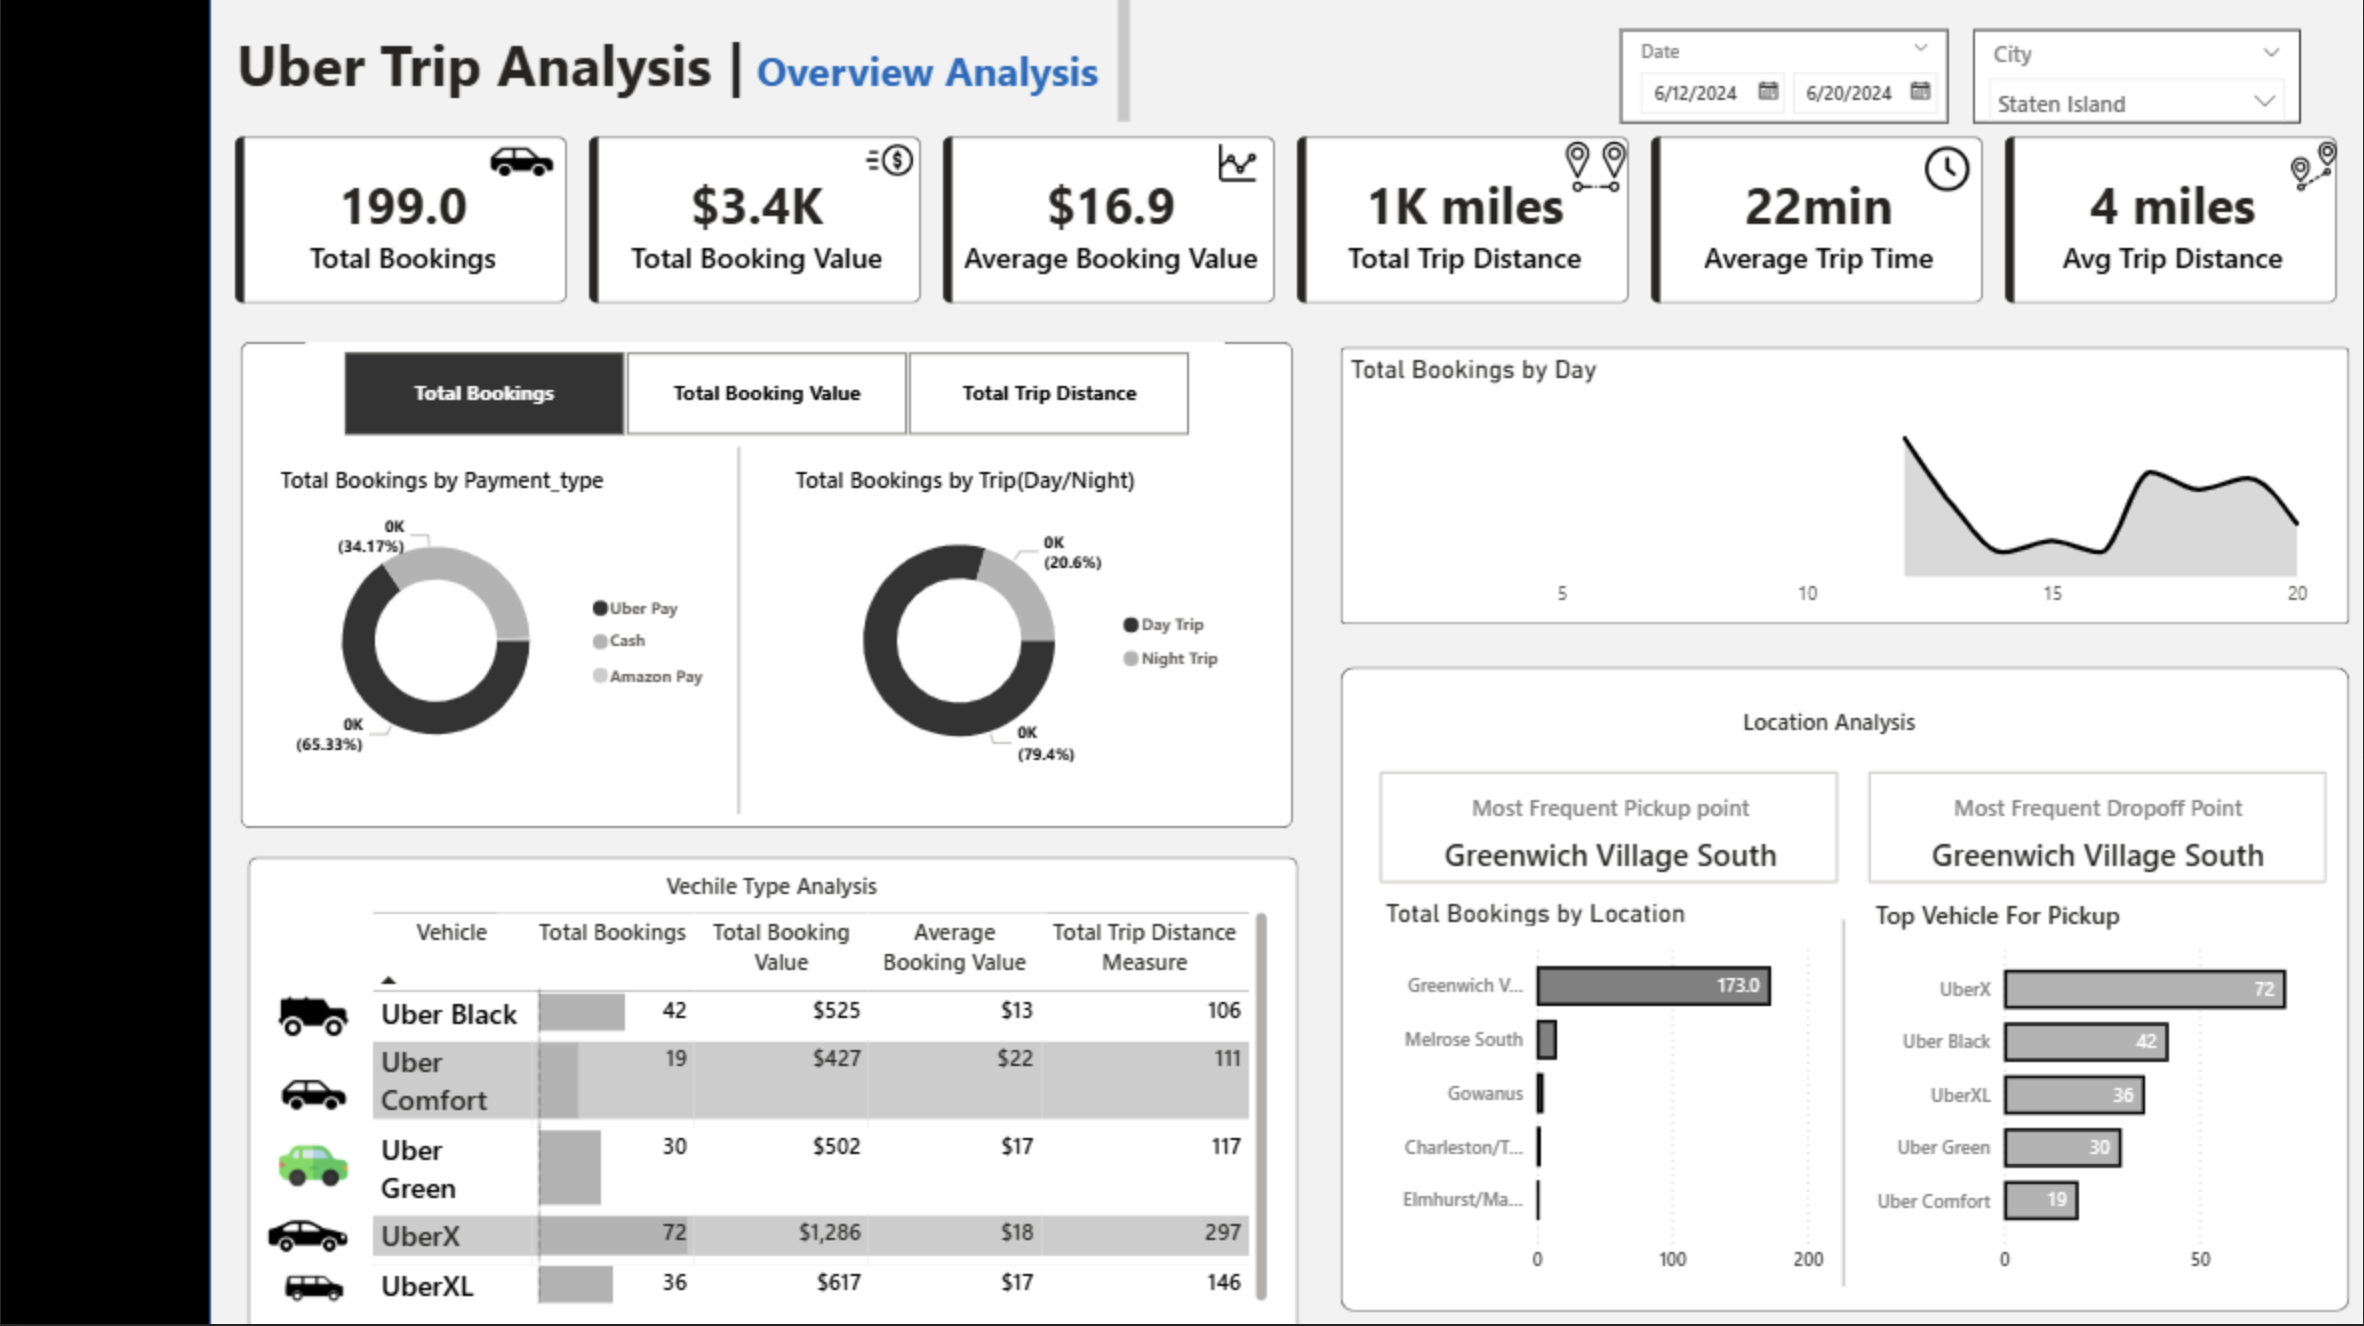

What the dashboard file says about the page in this screenshot:
{"tool":"powerbi","page":{"name":"Overview Analysis","canvas":[1600,900],"ordinal":0},"visuals":[{"type":"shape","box":[10.3,0,142,899],"z":0},{"type":"textbox","box":[152.9,0,616,93.2],"z":1000},{"type":"cardVisual","fields":{"Data":["Trip Details.Total Bookings","Trip Details.Total Booking Amount","Trip Details.Average Booking Amt","Trip Details.Total Trip Distance","Trip Details.Average Trip Time","Trip Details.Avg Trip Distance"]},"box":[164,92.2,1414.2,121.3],"z":2000},{"type":"image","box":[561.9,92.2,85.4,41],"z":3000},{"type":"image","box":[1023.1,92.2,104.2,49.5],"z":4000},{"type":"image","box":[780.5,95.6,112.7,37.6],"z":5000},{"type":"image","box":[1509.8,95.6,90.5,42.7],"z":6000},{"type":"image","box":[321.1,87.1,75.1,52.9],"z":7000},{"type":"shape","box":[171.2,233.9,701.6,324.1],"z":8000},{"type":"image","box":[1269,99.1,82,39.3],"z":9000},{"type":"slicer","fields":{"Values":["Dynamic Measure.Dynamic Measure"]},"box":[215.2,234,613.2,68.3],"z":10000},{"type":"donutChart","fields":{"Y":["Trip Details.Total Bookings"],"Category":["Trip Details.Payment_type"]},"box":[193,314.3,300.6,215.2],"z":11000},{"type":"donutChart","fields":{"Y":["Trip Details.Total Bookings"],"Category":["Trip Details.Trip Type (Day/Night)"]},"box":[536.3,314.3,300.6,215.2],"z":12000},{"type":"shape","box":[177.3,576.3,700.1,322.5],"z":13000},{"type":"pivotTable","fields":{"Values":["Trip Details.Total Bookings","Trip Details.Total Booking Value","Trip Details.Average Booking Value","Trip Details.Total Trip Distance Measure"],"Rows":["Trip Details.Vehicle"]},"box":[255.3,608.4,606.8,270.6],"z":14000},{"type":"image","box":[177.3,794.8,79.5,68.8],"z":15000},{"type":"image","box":[186.7,707.7,67.3,53.5],"z":16000},{"type":"image","box":[178.3,755.1,84.1,55],"z":17000},{"type":"image","box":[186.7,837.6,67.3,52],"z":18000},{"type":"image","box":[186.7,655.7,67.3,56.6],"z":19000},{"type":"card","fields":{"Values":["Trip Details.Title for Grid"]},"box":[343.9,583.9,365.3,30.6],"z":20000},{"type":"shape","box":[904.9,236.9,672.6,185],"z":21000},{"type":"areaChart","fields":{"Category":["CALENDER TABLE.Date.Variation.Date Hierarchy.Day"],"Y":["Trip Details.Total Bookings"]},"box":[906.4,241.5,651.2,177.3],"z":22000},{"type":"shape","box":[904.9,449.4,672.6,429.5],"z":23000},{"type":"cardVisual","fields":{"Data":["Trip Details.Most Frequent Pickup point","Trip Details.Most Frequent Dropoff Point"]},"box":[926.3,515.1,640.5,84.1],"z":24000},{"type":"barChart","fields":{"Category":["Location Table.Location"],"Y":["Trip Details.Total Bookings"]},"box":[929.4,603.8,311.8,259.9],"z":25000},{"type":"barChart","title":"Top Vehicle For Pickup","fields":{"Category":["Trip Details.Vehicle"],"Y":["CountNonNull(Trip Details.PULocationID)"]},"box":[1256.5,603.8,311.8,259.9],"z":26000},{"type":"shape","box":[444.8,302.7,117.7,244.6],"z":27000},{"type":"shape","box":[1181.6,619.1,117.7,244.6],"z":28000},{"type":"card","fields":{"Values":["Trip Details.Title for Location"]},"box":[1048.6,461.6,365.3,53.5],"z":29000},{"type":"slicer","fields":{"Values":["CALENDER TABLE.Date"]},"box":[1091.4,24.5,218.6,62.7],"z":30000},{"type":"slicer","fields":{"Values":["Location Table.City"]},"box":[1326.8,24.5,218.6,62.7],"z":31000}]}

Visuals, with their boxes in screenshot pixels (x1, y1, x2, y2), scaled from the page's 1600x900 canvas onto the 2364x1326 screenshot:
shape: rect(15, 0, 225, 1325)
textbox: rect(226, 0, 1136, 137)
cardVisual - Trip Details.Total Bookings x Trip Details.Total Booking Amount: rect(242, 136, 2332, 315)
image: rect(830, 136, 956, 196)
image: rect(1512, 136, 1666, 209)
image: rect(1153, 141, 1320, 196)
image: rect(2231, 141, 2363, 204)
image: rect(474, 128, 585, 206)
shape: rect(253, 345, 1290, 822)
image: rect(1875, 146, 1996, 204)
slicer - Dynamic Measure.Dynamic Measure: rect(318, 345, 1224, 445)
donutChart - Trip Details.Total Bookings x Trip Details.Payment_type: rect(285, 463, 729, 780)
donutChart - Trip Details.Total Bookings x Trip Details.Trip Type (Day/Night): rect(792, 463, 1237, 780)
shape: rect(262, 849, 1296, 1324)
pivotTable - Trip Details.Total Bookings x Trip Details.Total Booking Value: rect(377, 896, 1274, 1295)
image: rect(262, 1171, 379, 1272)
image: rect(276, 1043, 375, 1122)
image: rect(263, 1113, 388, 1194)
image: rect(276, 1234, 375, 1311)
image: rect(276, 966, 375, 1049)
card - Trip Details.Title for Grid: rect(508, 860, 1048, 905)
shape: rect(1337, 349, 2331, 622)
areaChart - CALENDER TABLE.Date.Variation.Date Hierarchy.Day x Trip Details.Total Bookings: rect(1339, 356, 2301, 617)
shape: rect(1337, 662, 2331, 1295)
cardVisual - Trip Details.Most Frequent Pickup point x Trip Details.Most Frequent Dropoff Point: rect(1369, 759, 2315, 883)
barChart - Location Table.Location x Trip Details.Total Bookings: rect(1373, 890, 1834, 1273)
"Top Vehicle For Pickup" barChart: rect(1856, 890, 2317, 1273)
shape: rect(657, 446, 831, 806)
shape: rect(1746, 912, 1920, 1273)
card - Trip Details.Title for Location: rect(1549, 680, 2089, 759)
slicer - CALENDER TABLE.Date: rect(1613, 36, 1936, 128)
slicer - Location Table.City: rect(1960, 36, 2283, 128)
